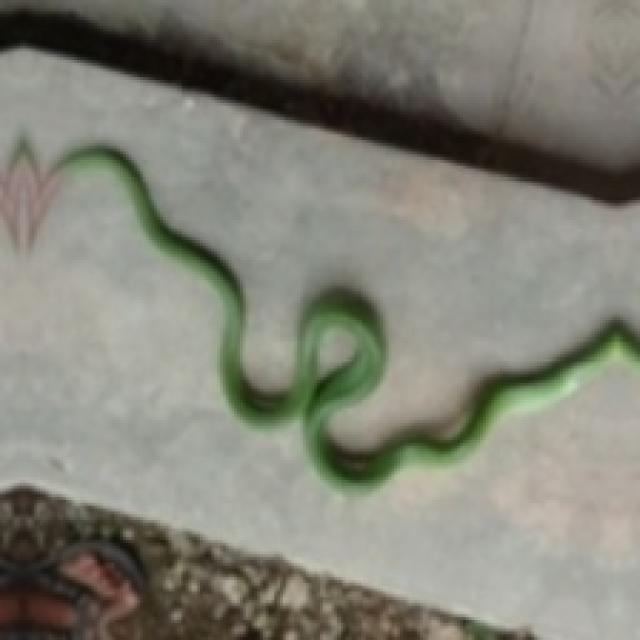red-tailed green ratsnake: (51, 146, 637, 483)
